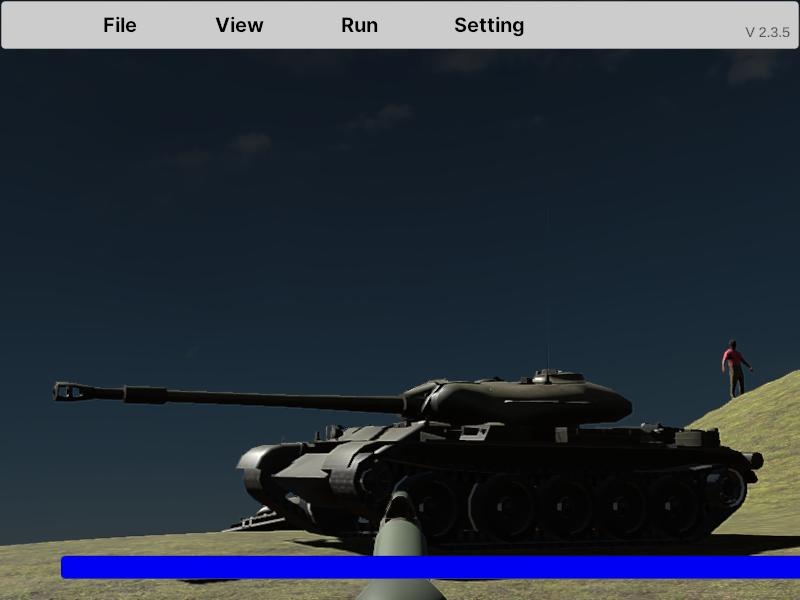Tank: (50, 368, 735, 556)
